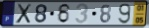3: (74, 3, 91, 25)
6: (56, 3, 71, 25)
8: (35, 4, 49, 24), (99, 4, 112, 24)
9: (117, 3, 132, 25)
X: (15, 3, 33, 25)
